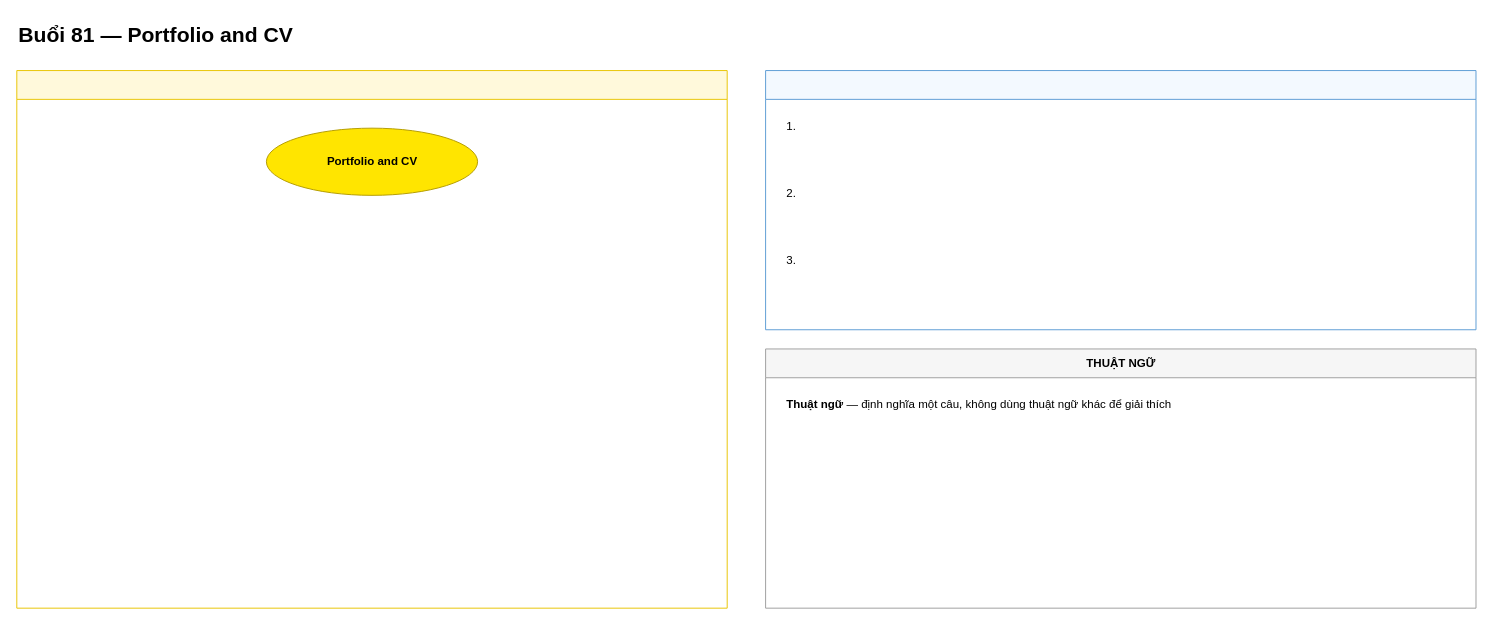
Some shapes in this 1493 by 625 pixel diagram are drawn without their labels. Here are the shapes that lost their labels. From the top down, the box of each, then its label:
(765, 70, 1476, 330): KEY TAKEAWAY — ba điều phải nhớ
(16, 70, 727, 608): MINDMAP
